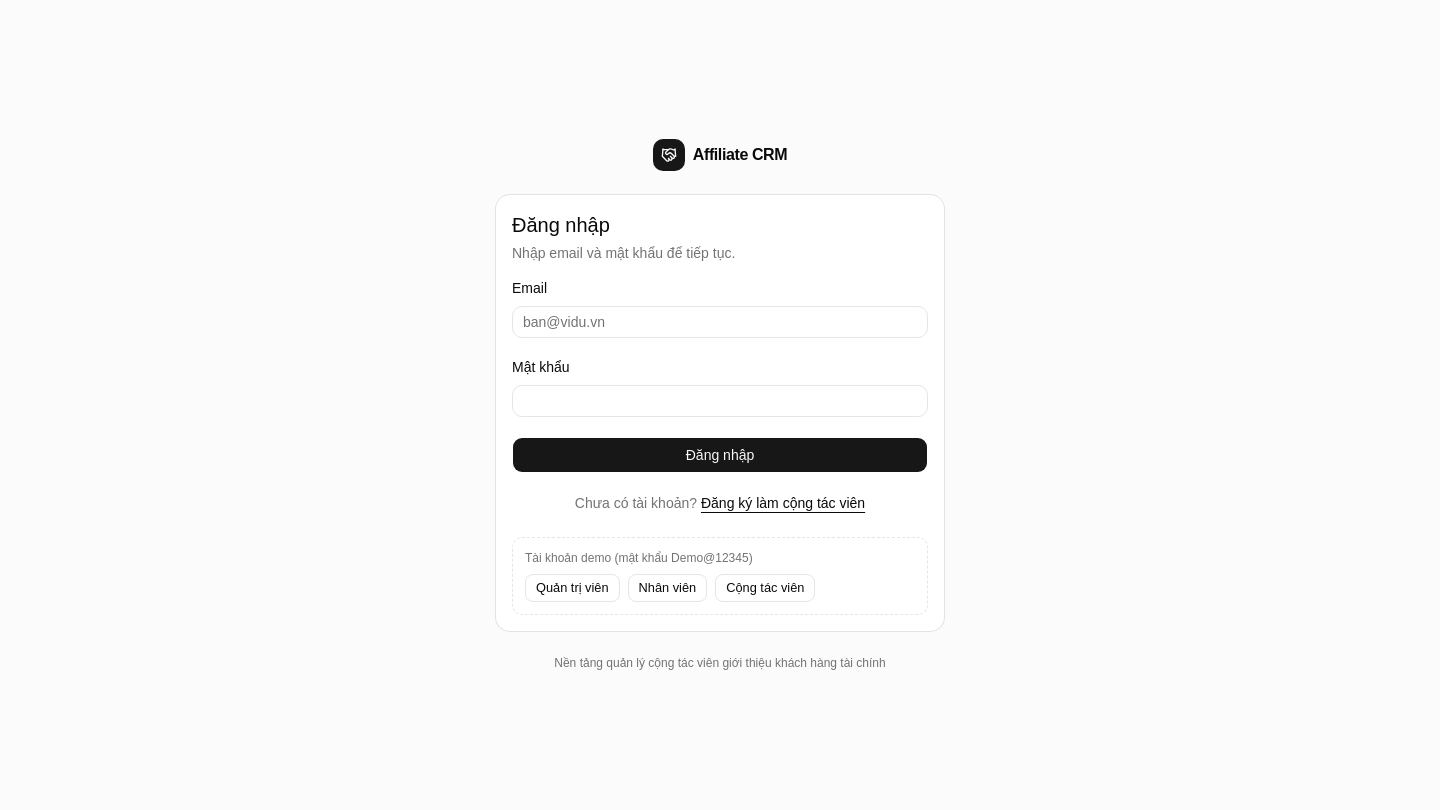
route guards › sends guests to the login page and back to the requested page after login
Expected: the heading "Đăng nhập" is shown, [512,214,610,236]
In the field labelled "Email": coordinates (720, 322) [512,306,928,338], type "admin@demo.vn"
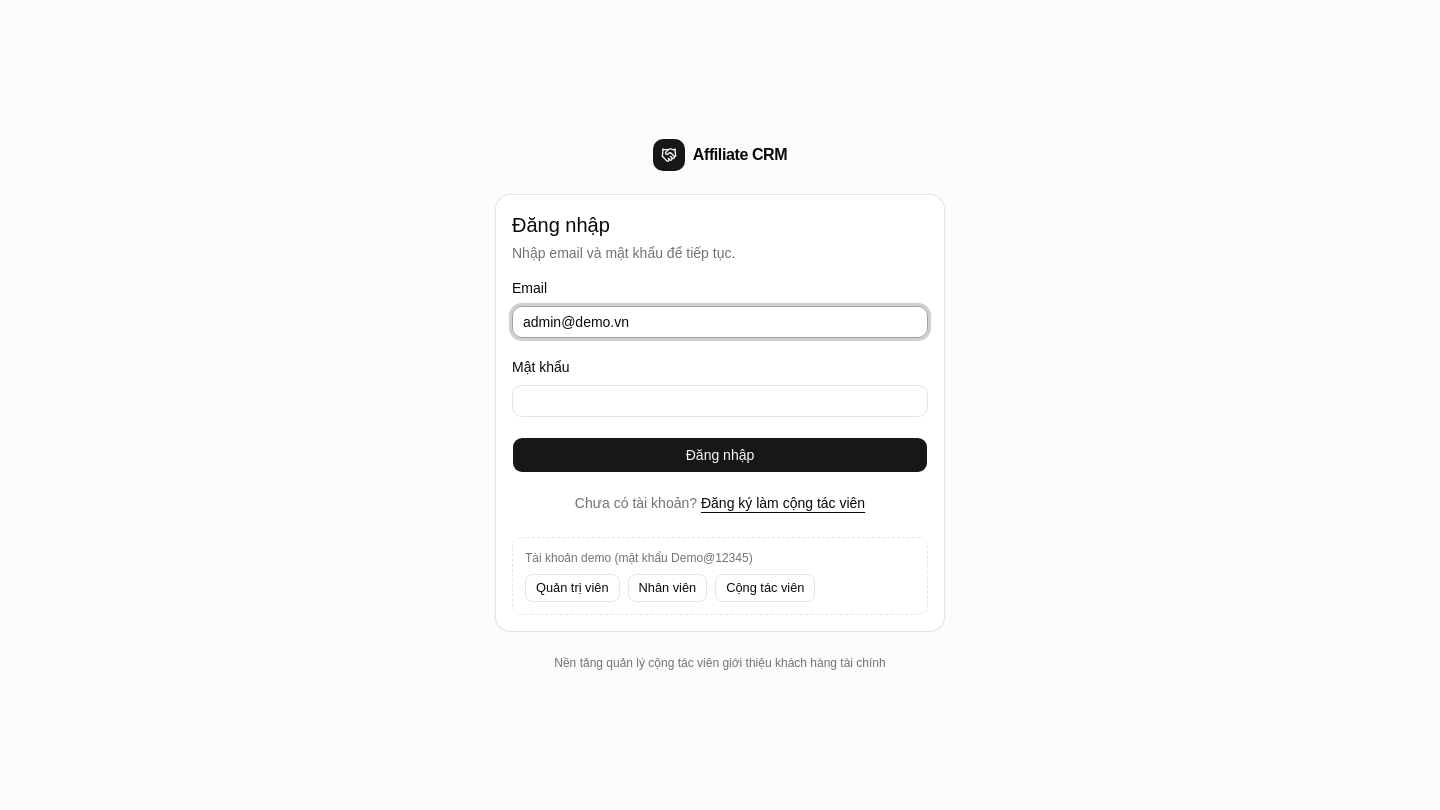
In the password field labelled "Mật khẩu": coordinates (720, 401) [512,385,928,417], type "Demo@12345"
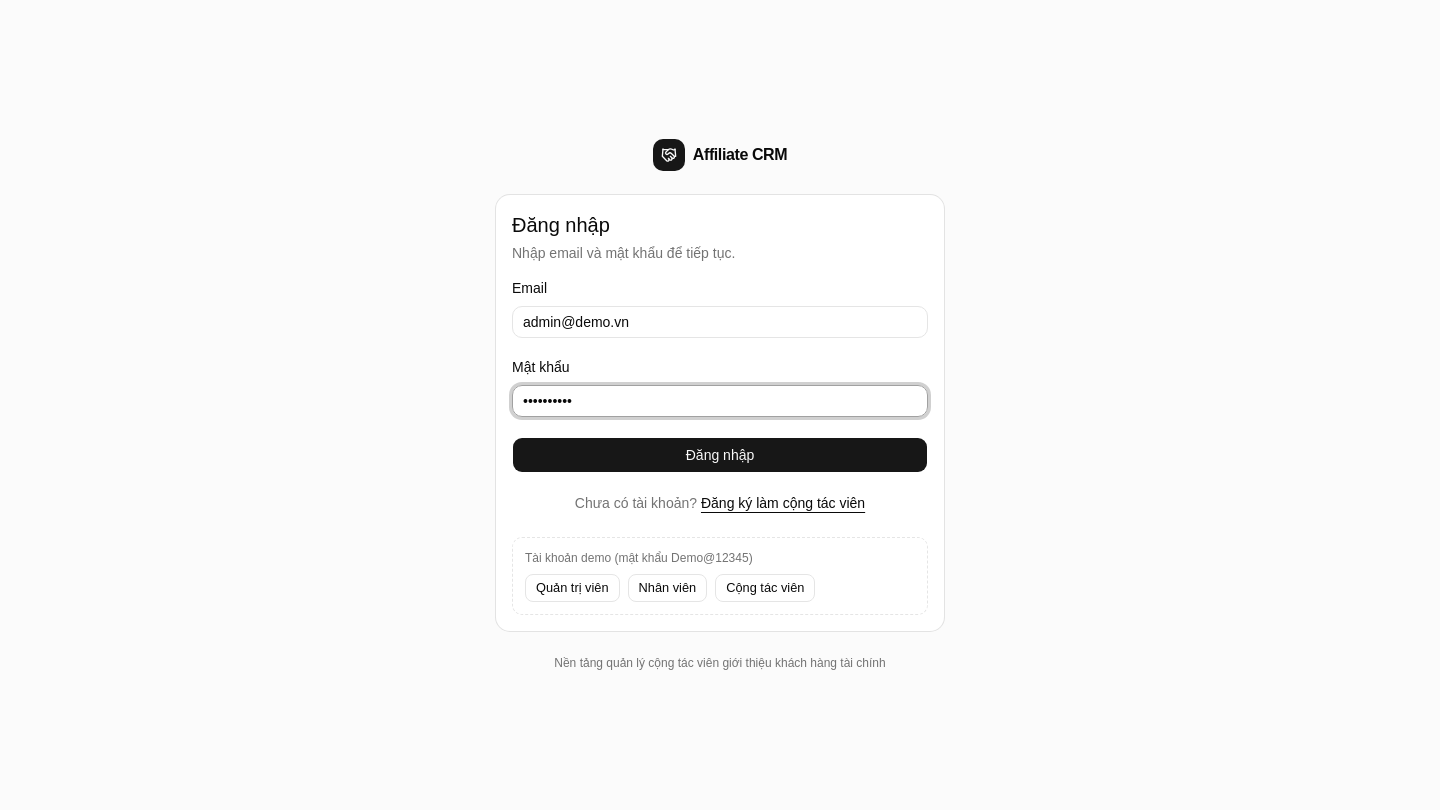
Click the button "Đăng nhập": coordinates (720, 455) [512,437,928,473]
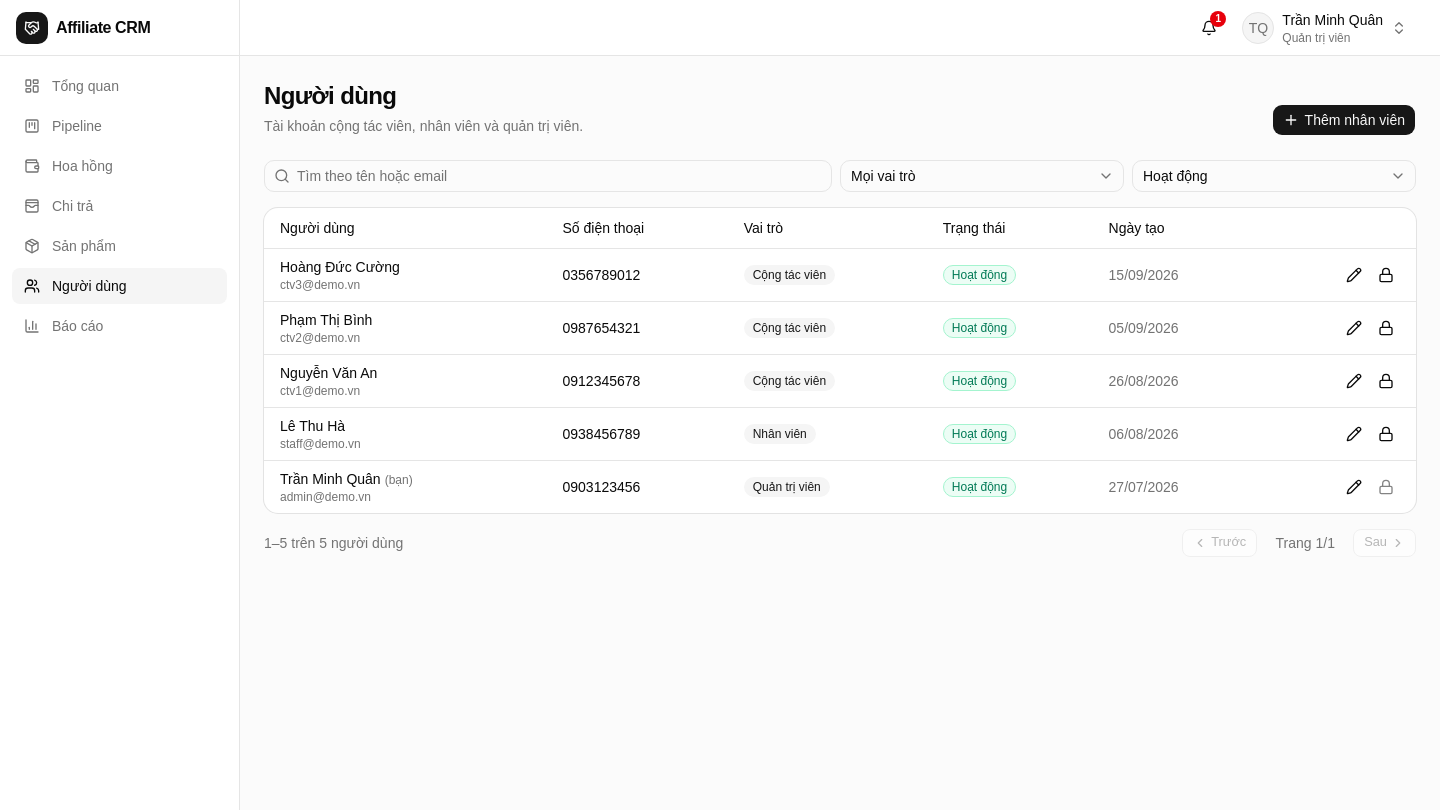
Expected: the heading "Người dùng" is shown, [264,82,396,109]
